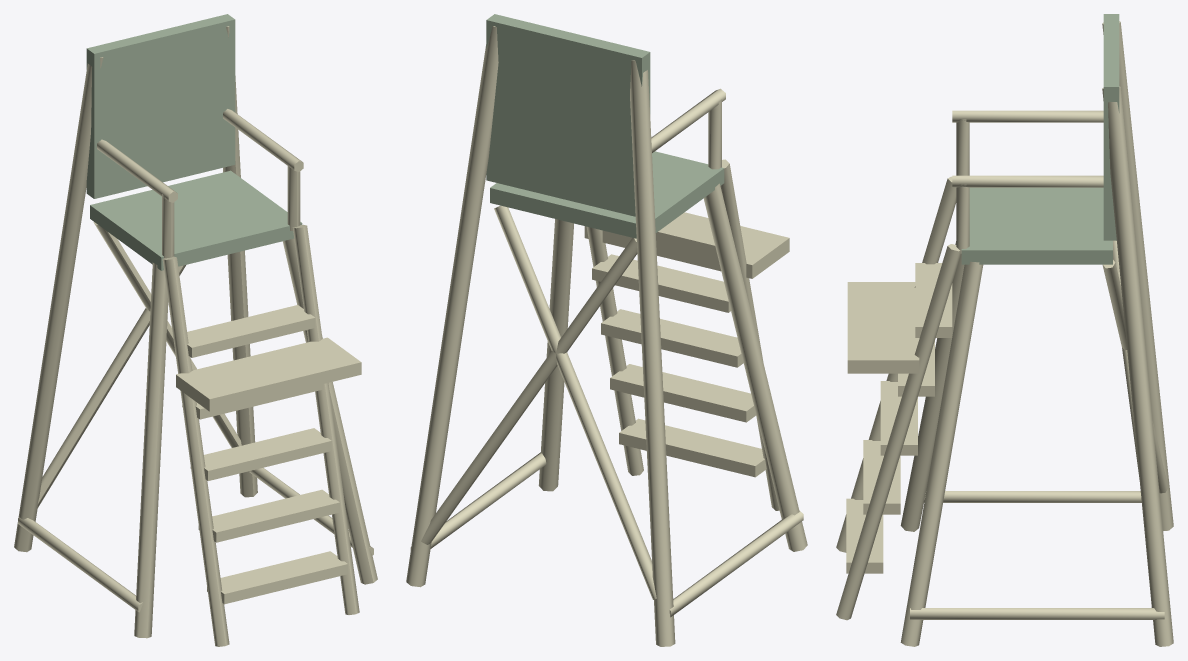
File: umpire-chair.glb
3 views of the same model, side by side, from view 1: azimuth 30°, elevation 25°; view 2: azimuth 150°, elevation 25°; view 3: azimuth 270°, elevation 25° (orthographic). The views are drawn at different scales.
Parts seen in each view (by area): view 1: Cushion back, Cushion seat, Back leg (×2), Ladder rail (×2), Front leg (×2), Footrest, Rear cross brace (×2), Ladder tread 4, Ladder tread 1, Ladder tread 2, Ladder tread 0, Base brace (×2) (+3 smaller); view 2: Cushion back, Back leg (×2), Front leg (×2), Rear cross brace (×2), Cushion seat, Ladder rail (×2), Base brace (×2), Ladder tread 0, Ladder tread 1, Ladder tread 2, Footrest, Ladder tread 3 (+3 smaller); view 3: Back leg (×2), Front leg (×2), Cushion seat, Ladder rail (×2), Footrest, Base brace (×2), Armrest (×2), Cushion back, Rear cross brace (×2), Ladder tread 4, Armrest front support (×2), Ladder tread 0 (+3 smaller).
Boxes of the visible parts, bbox=[...] form: Cushion back: bbox=[86, 14, 235, 198]; Cushion seat: bbox=[90, 170, 302, 270]; Back leg (×2): bbox=[14, 26, 257, 552]; Ladder rail (×2): bbox=[162, 224, 359, 646]; Front leg (×2): bbox=[134, 238, 377, 638]; Footrest: bbox=[176, 337, 361, 411]; Rear cross brace (×2): bbox=[37, 222, 241, 507]; Ladder tread 4: bbox=[187, 305, 315, 357]; Ladder tread 1: bbox=[198, 489, 339, 542]; Ladder tread 2: bbox=[190, 428, 331, 480]; Ladder tread 0: bbox=[207, 551, 347, 604]; Base brace (×2): bbox=[18, 467, 373, 612]; Cushion back: bbox=[486, 14, 650, 216]; Back leg (×2): bbox=[406, 26, 675, 646]; Front leg (×2): bbox=[538, 183, 807, 551]; Rear cross brace (×2): bbox=[421, 205, 656, 599]; Cushion seat: bbox=[490, 151, 724, 238]; Ladder rail (×2): bbox=[586, 159, 779, 510]; Base brace (×2): bbox=[410, 452, 803, 617]; Ladder tread 0: bbox=[619, 418, 766, 477]; Ladder tread 1: bbox=[610, 364, 756, 422]; Ladder tread 2: bbox=[601, 309, 743, 367]; Footrest: bbox=[584, 212, 789, 278]; Ladder tread 3: bbox=[592, 254, 730, 312]; Back leg (×2): bbox=[1102, 21, 1173, 646]; Front leg (×2): bbox=[900, 241, 983, 646]; Cushion seat: bbox=[961, 187, 1112, 264]; Ladder rail (×2): bbox=[836, 176, 960, 620]; Footrest: bbox=[847, 282, 919, 373]; Base brace (×2): bbox=[910, 491, 1164, 619]; Armrest (×2): bbox=[952, 110, 1103, 187]; Cushion back: bbox=[1103, 14, 1119, 240]; Rear cross brace (×2): bbox=[1102, 240, 1168, 493]; Ladder tread 4: bbox=[915, 263, 952, 337]; Armrest front support (×2): bbox=[956, 119, 969, 253]; Ladder tread 0: bbox=[846, 498, 883, 573].
Size of the model in its own units: 1.1 by 2.23 by 1.27.
